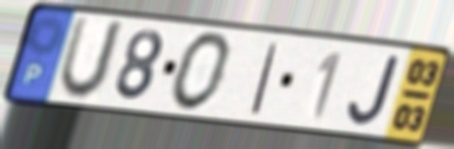1: (312, 50, 344, 120)
8: (113, 28, 166, 103)
I: (248, 40, 282, 118)
J: (346, 53, 404, 128)
O: (168, 29, 236, 114)
U: (55, 14, 129, 104)
